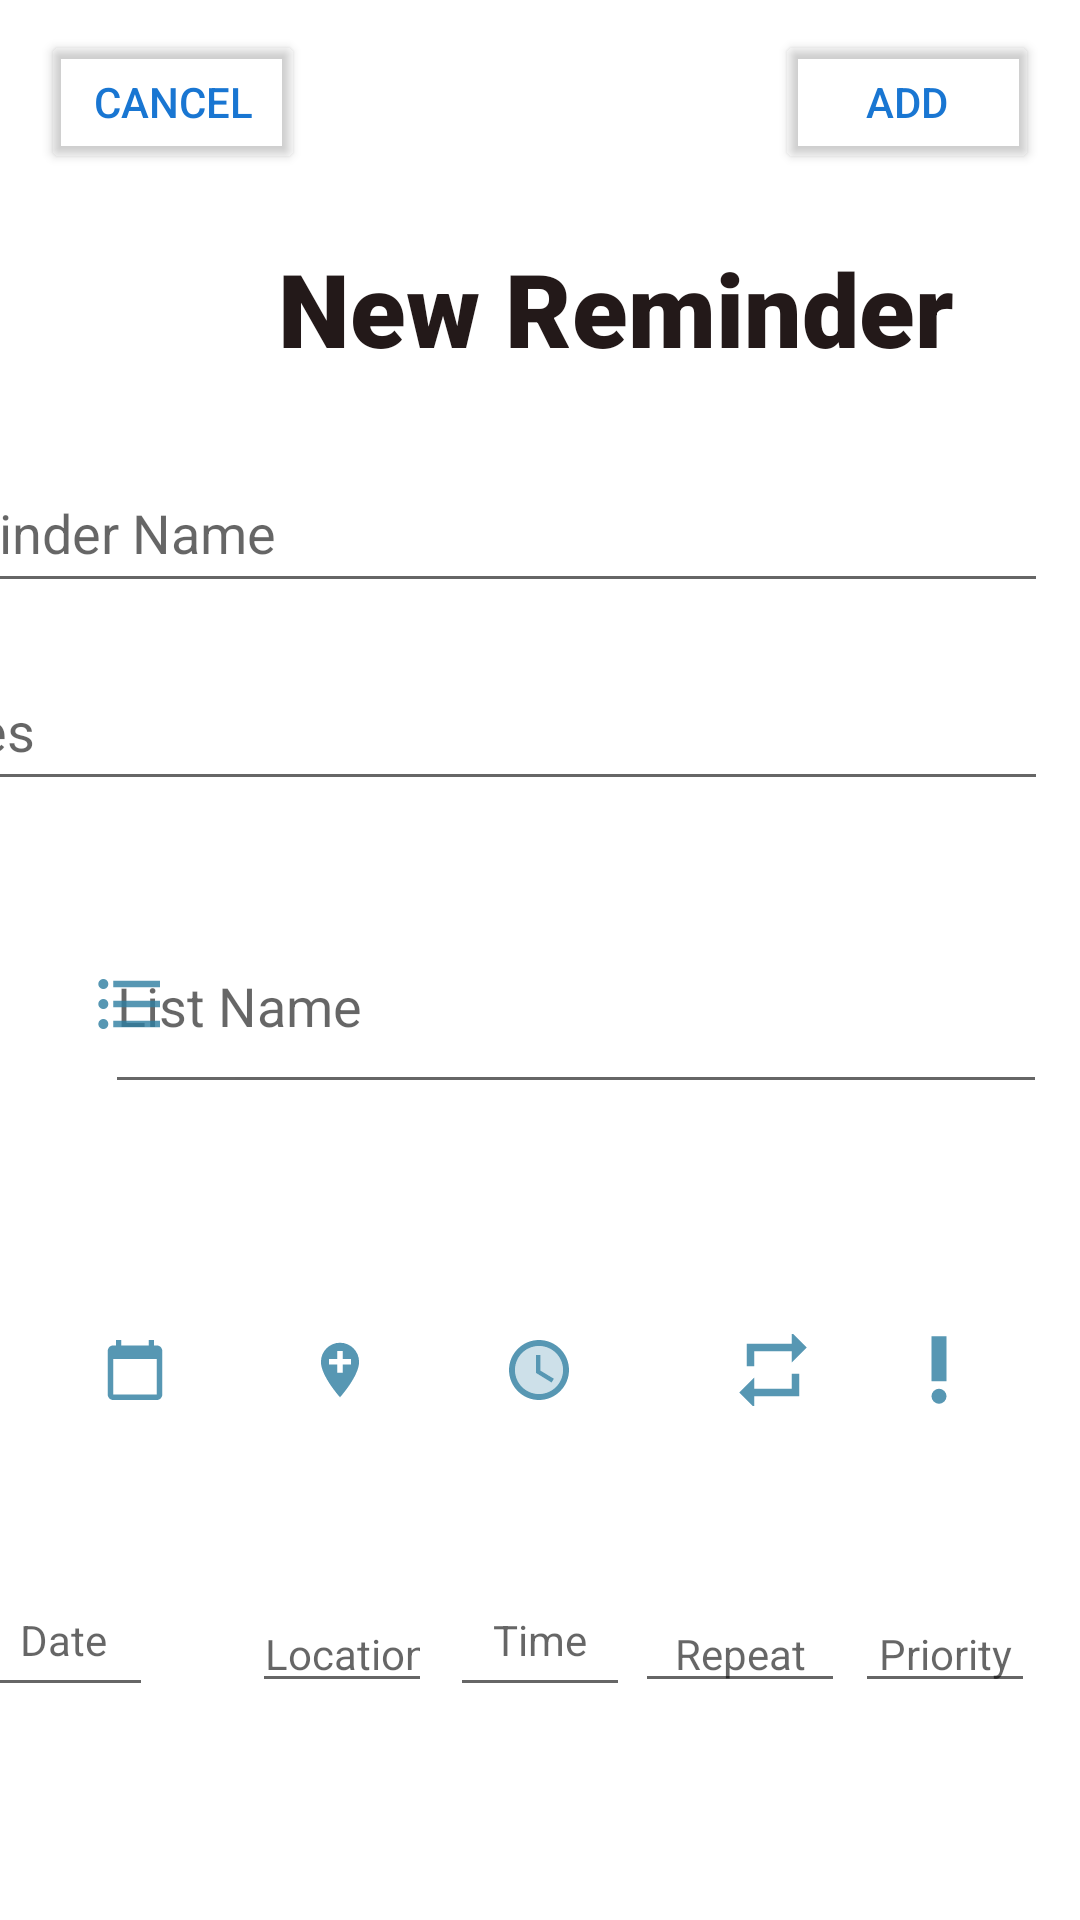

Named icons in this screenshot (1080*1920) and their centers, (x=x, y=y):
calender: (x=135, y=1370)
clock: (x=539, y=1370)
loction: (x=340, y=1369)
